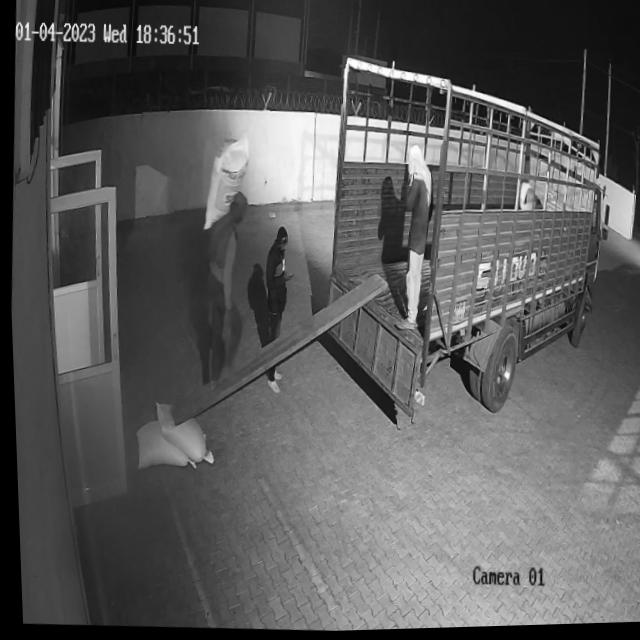sack: (200, 133, 250, 232), (148, 401, 213, 466), (131, 420, 194, 472)
